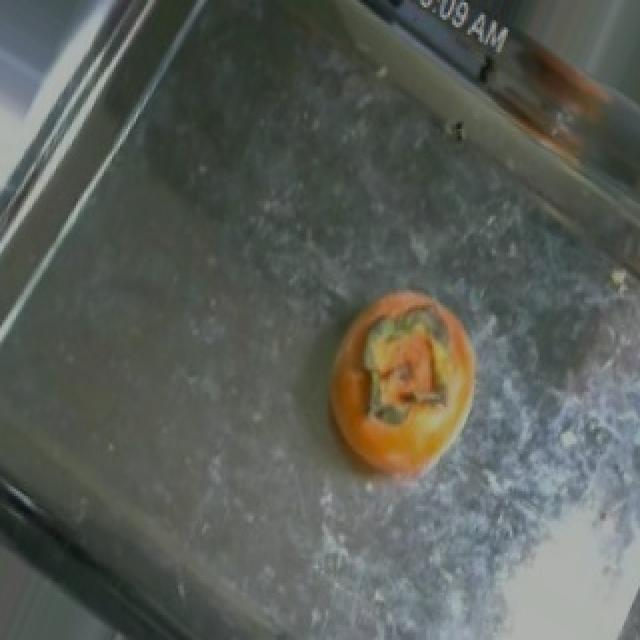Fruit: (306, 273, 498, 501)
